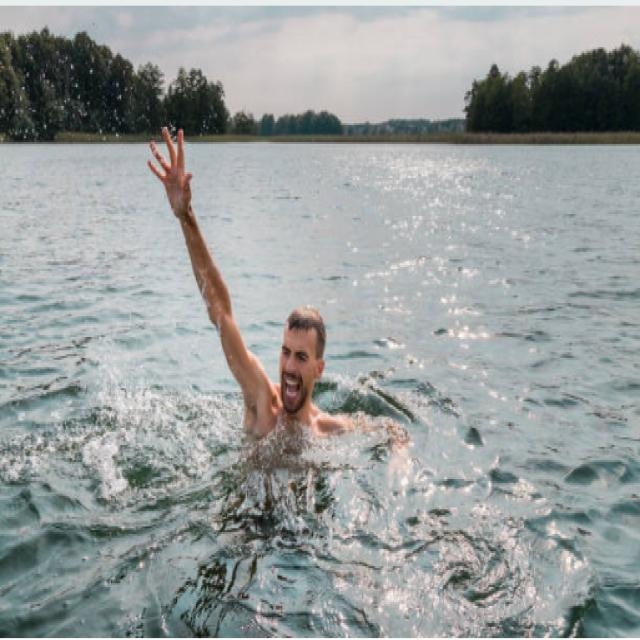drowning: (142, 120, 340, 454)
